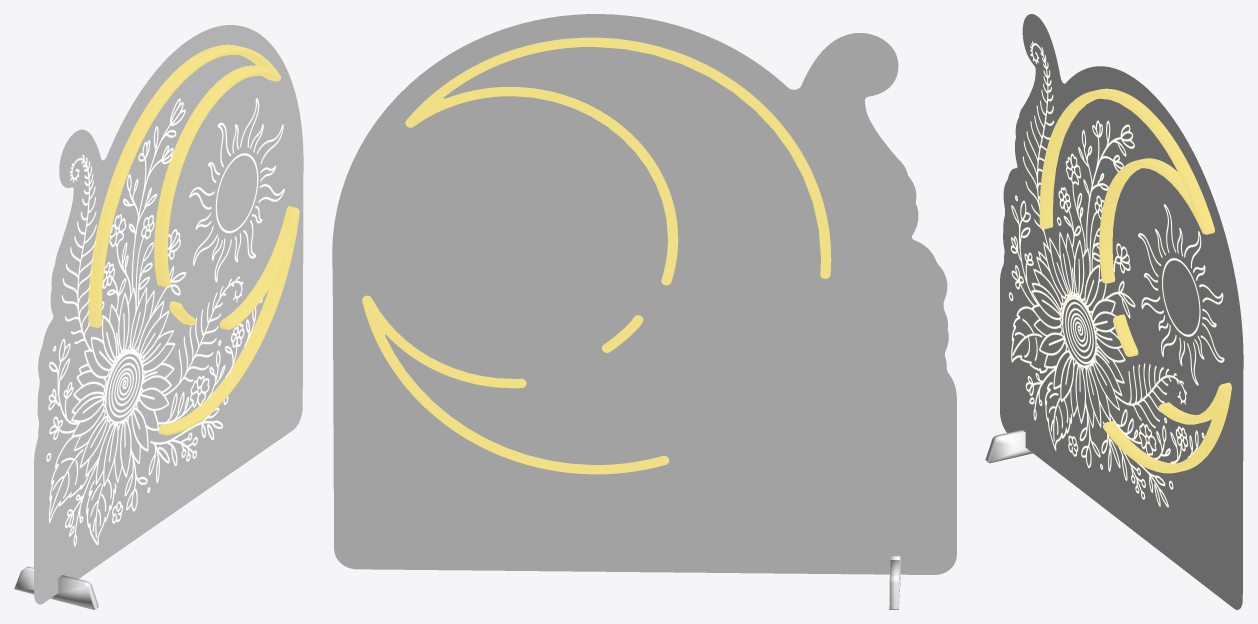
The model's file is місяць__02.06_.glb.
3 renders of one model, left to right at view 1: azimuth 30°, elevation 25°; view 2: azimuth 150°, elevation 25°; view 3: azimuth 270°, elevation 25°, orthographic. The views are drawn at different scales.
Parts seen in each view (by area): view 1: Curve, Ресурс 1, Curve.003, Curve.159; view 2: Curve, Curve.003; view 3: Curve, Ресурс 1, Curve.003, Curve.159.
Boxes of the visible parts, x1,y1,x2,y2 form: Curve: [34, 25, 303, 604]; Ресурс 1: [46, 98, 284, 546]; Curve.003: [88, 44, 299, 435]; Curve.159: [14, 566, 98, 609]; Curve: [332, 14, 956, 574]; Curve.003: [362, 37, 831, 474]; Curve: [1000, 14, 1243, 609]; Ресурс 1: [1009, 41, 1224, 507]; Curve.003: [1039, 88, 1231, 473]; Curve.159: [985, 429, 1032, 463].
Size of the model in its own units: 0.2939 by 0.3354 by 0.1702.
Materials: 4 (1 with a texture image).
